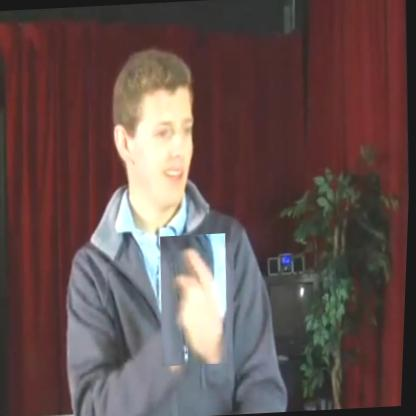NiceToMeetYou: (158, 233, 234, 366)
